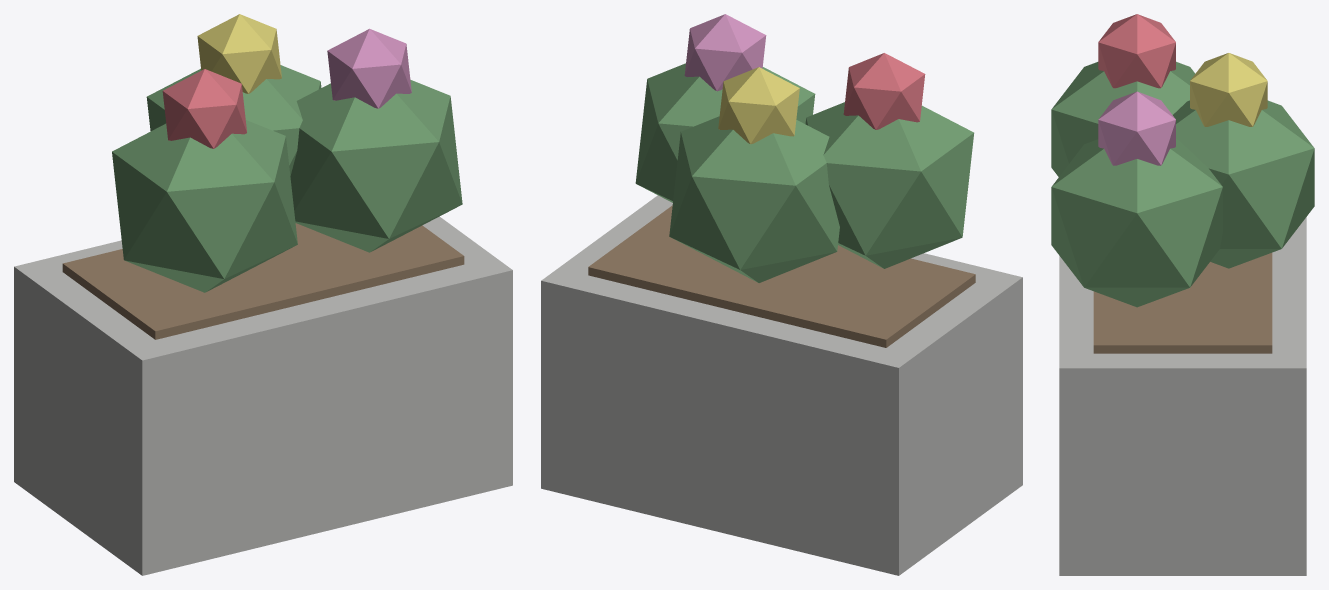
The model's file is Saksi.glb.
The picture shows the model from 3 angles, left to right: view 1: azimuth 30°, elevation 25°; view 2: azimuth 150°, elevation 25°; view 3: azimuth 270°, elevation 25°; orthographic projection. The views are drawn at different scales.
Parts seen in each view (by area): view 1: Saksi; view 2: Saksi; view 3: Saksi.
Part boxes in pixels (x1=…): Saksi: x1=14, y1=14, x2=512, y2=575; Saksi: x1=541, y1=14, x2=1022, y2=575; Saksi: x1=1051, y1=14, x2=1314, y2=575.
Bounding box in the file's own units: 0.9 × 1.05 × 0.5743.
